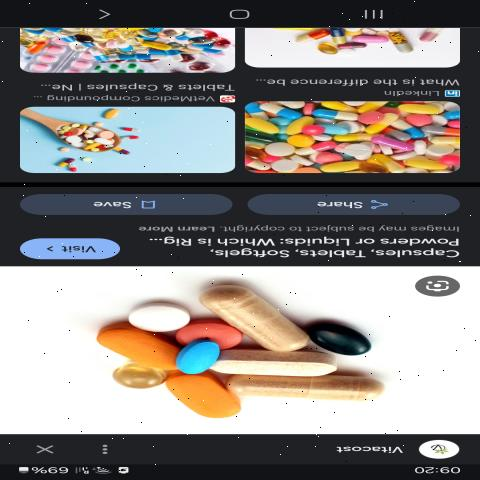Pill: (195, 277, 304, 354), (209, 374, 402, 403), (193, 350, 340, 384), (160, 374, 240, 425), (117, 301, 198, 337)
